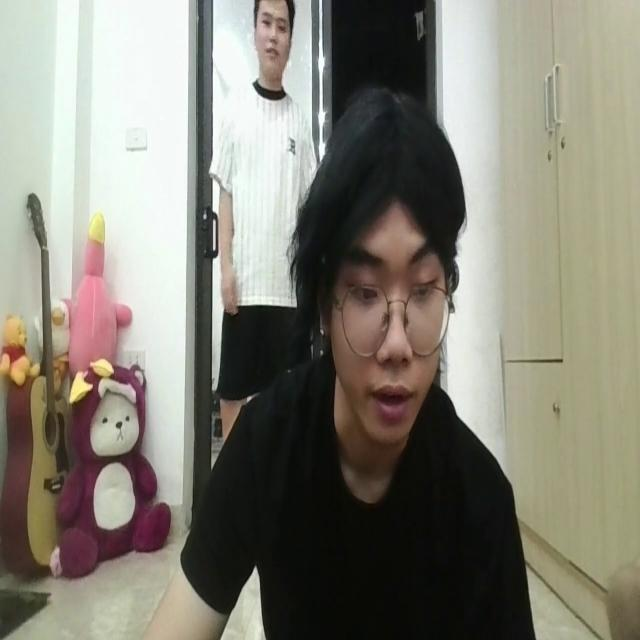extra_person: (208, 0, 310, 379)
student: (145, 99, 532, 640)
